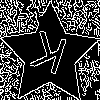K: (24, 30, 70, 85)
